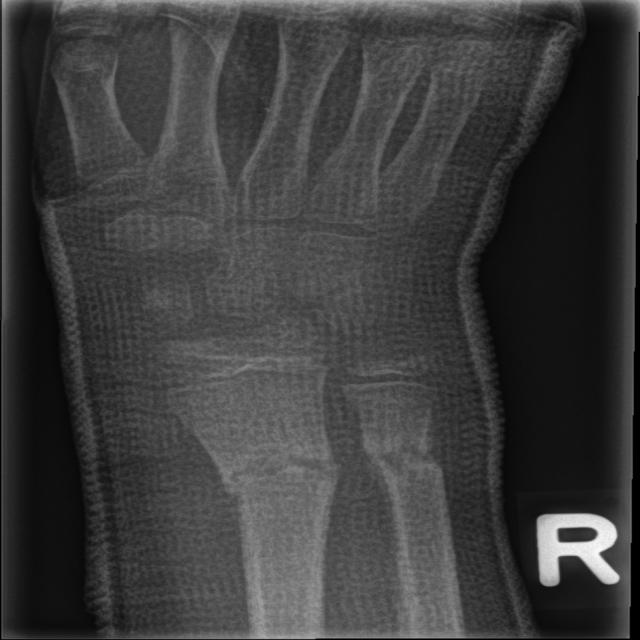radius fracture: (176, 420, 359, 568)
ulna fracture: (352, 413, 486, 555)
